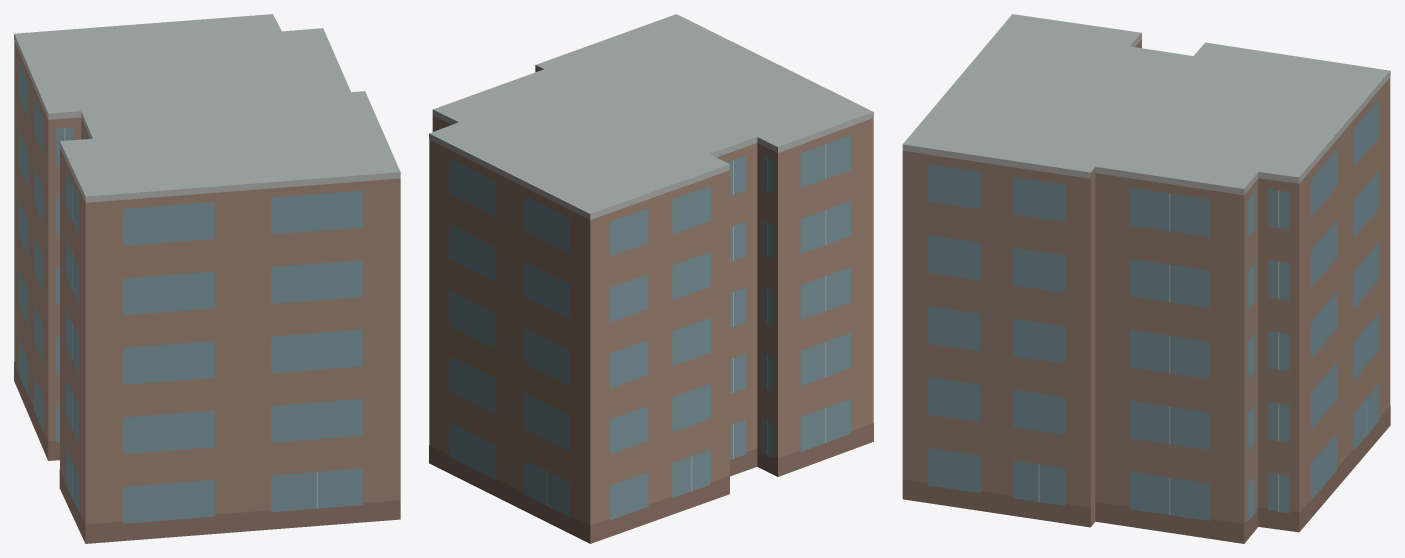
File: survey-upis-32854339.glb
The picture shows the model from 3 angles, left to right: view 1: azimuth 30°, elevation 25°; view 2: azimuth 150°, elevation 25°; view 3: azimuth 270°, elevation 25°; orthographic projection. The views are drawn at different scales.
Visible parts, largest first — view 1: survey-upis-32854339.tmp; view 2: survey-upis-32854339.tmp; view 3: survey-upis-32854339.tmp.
Part boxes in pixels (x1,y1,x2,y2): survey-upis-32854339.tmp: [14, 14, 400, 543]; survey-upis-32854339.tmp: [429, 14, 873, 543]; survey-upis-32854339.tmp: [902, 14, 1390, 543].
Bounding box in the file's own units: 14.5 × 13.7 × 17.08.
